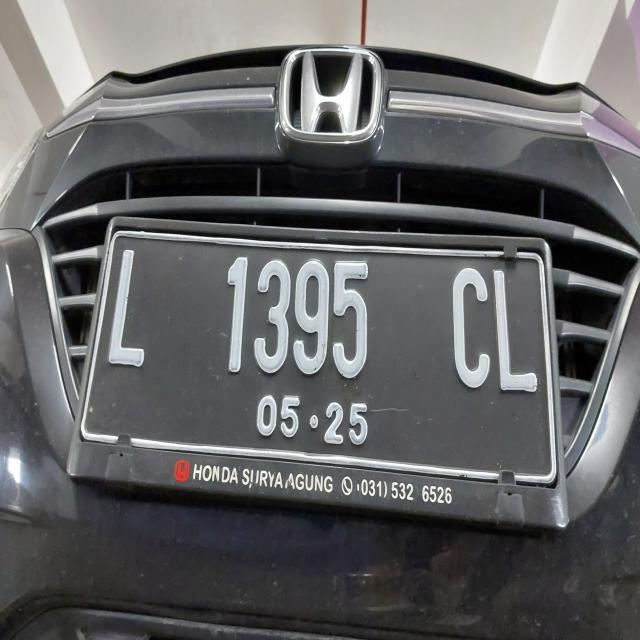1: (220, 249, 250, 383)
3: (255, 249, 293, 377)
5: (333, 252, 372, 384)
9: (294, 250, 333, 383)
C: (448, 261, 492, 401)
L: (492, 260, 542, 396), (108, 238, 150, 382)
